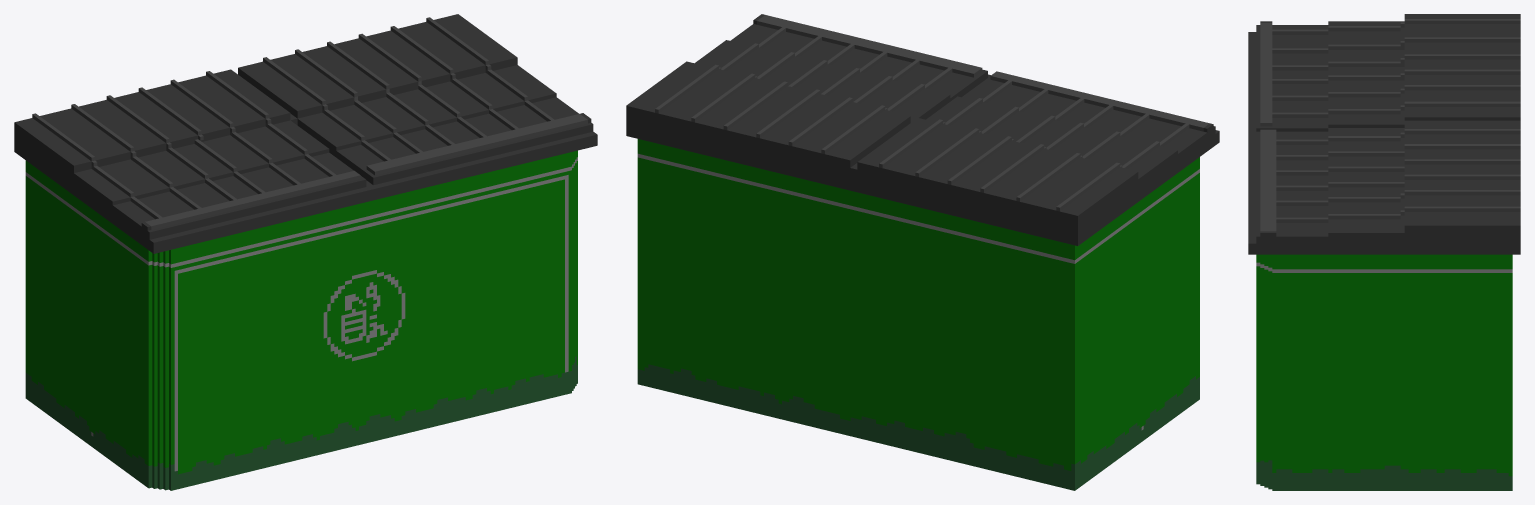
Rendered from Dustbin-3.obj.
The picture shows the model from 3 angles, left to right: view 1: azimuth 30°, elevation 25°; view 2: azimuth 150°, elevation 25°; view 3: azimuth 270°, elevation 25°; orthographic projection. The views are drawn at different scales.
Size of the model in its own units: 12.5 by 7.5 by 6.8.
Materials: 1 (1 with a texture image).
